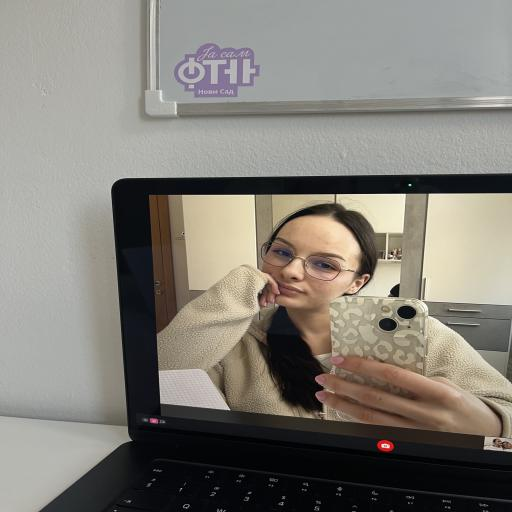marija: (262, 219, 361, 311)
